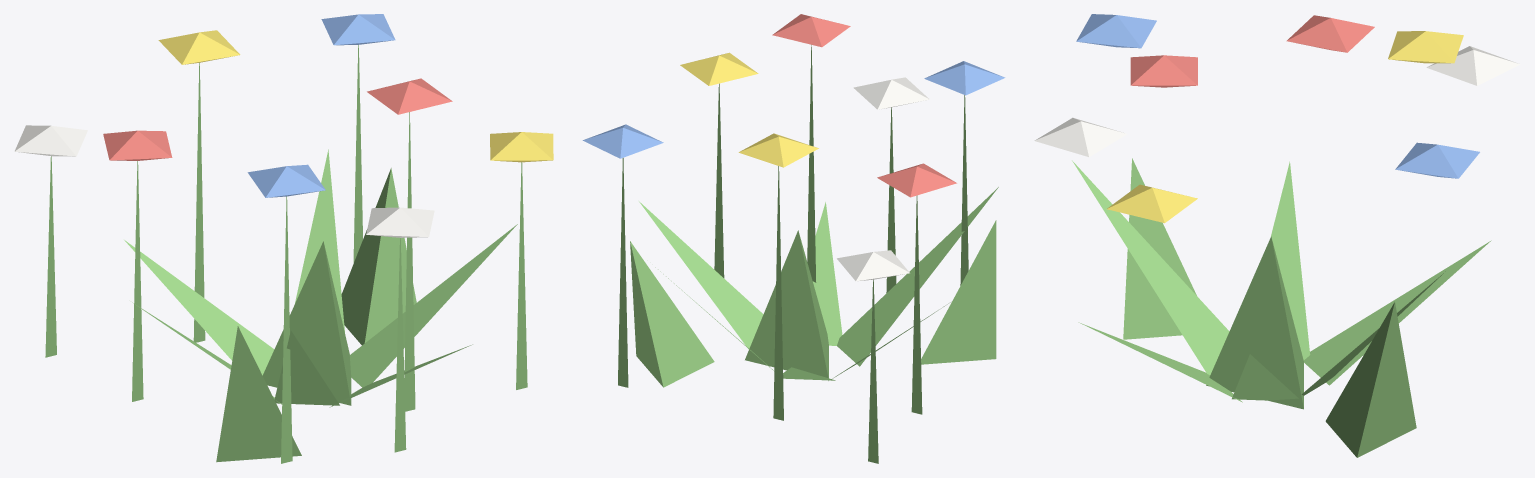
File: wildflowers.glb
3 views of the same model, side by side, from view 1: azimuth 30°, elevation 25°; view 2: azimuth 150°, elevation 25°; view 3: azimuth 270°, elevation 25° (orthographic). The views are drawn at different scales.
Visible parts, largest first — view 1: crop; view 2: crop; view 3: crop.
Part boxes in pixels (x1=…): crop: x1=14, y1=14, x2=553, y2=463; crop: x1=582, y1=14, x2=1005, y2=463; crop: x1=1034, y1=14, x2=1520, y2=457.
Bounding box in the file's own units: 0.8282 × 0.65 × 0.8186.
